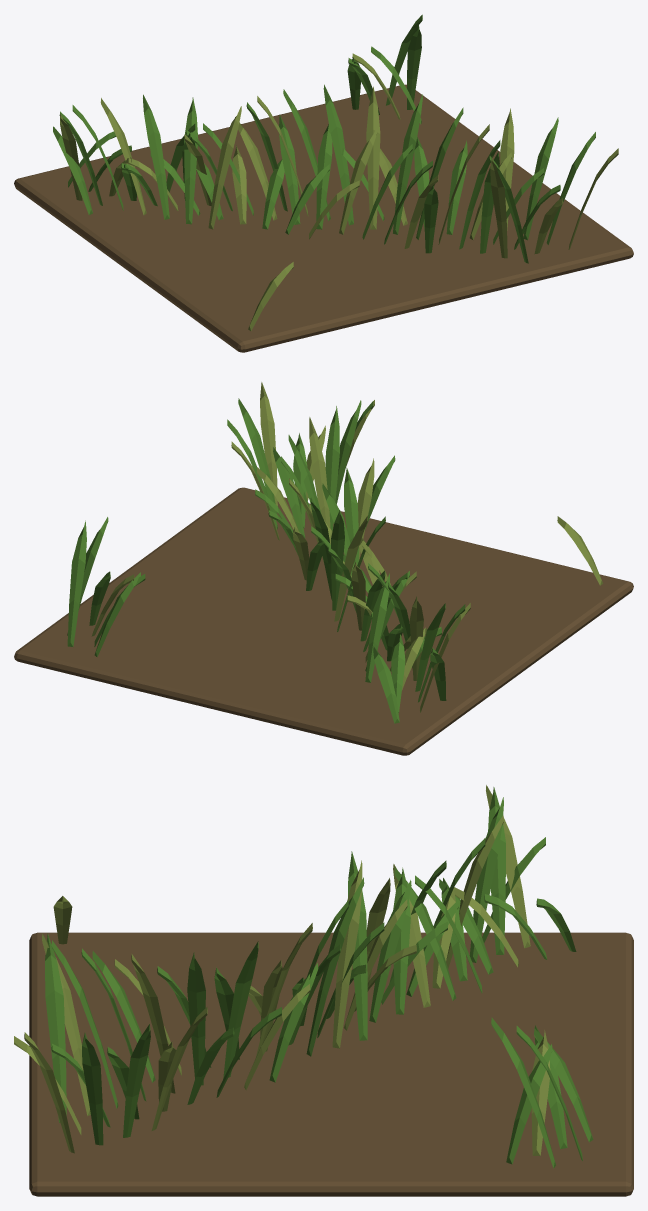
3 views of the same model, one above another, from view 1: azimuth 30°, elevation 25°; view 2: azimuth 150°, elevation 25°; view 3: azimuth 270°, elevation 25° (orthographic). The views are drawn at different scales.
Parts seen in each view (by area): view 1: GRASS_Soil, GRASS_Blade_24, GRASS_Blade_53, GRASS_Blade_29, GRASS_Blade_63, GRASS_Blade_19, GRASS_Blade_58, GRASS_Blade_54, GRASS_Blade_37, GRASS_Blade_8, GRASS_Blade_32, GRASS_Blade_16 (+25 smaller); view 2: GRASS_Soil, GRASS_Blade_23, GRASS_Blade_39, GRASS_Blade_18, GRASS_Blade_44, GRASS_Blade_2, GRASS_Blade_14, GRASS_Blade_13, GRASS_Blade_52, GRASS_Blade_5, GRASS_Blade_49, GRASS_Blade_26 (+12 smaller); view 3: GRASS_Soil, GRASS_Blade_59, GRASS_Blade_9, GRASS_Blade_4, GRASS_Blade_14, GRASS_Blade_34, GRASS_Blade_29, GRASS_Blade_13, GRASS_Blade_8, GRASS_Blade_38, GRASS_Blade_43, GRASS_Blade_22 (+39 smaller).
Part boxes in pixels (box(x1,y1,x2,y2)): GRASS_Soil: box(14, 84, 633, 352); GRASS_Blade_24: box(366, 86, 380, 229); GRASS_Blade_53: box(143, 94, 169, 219); GRASS_Blade_29: box(393, 94, 422, 234); GRASS_Blade_63: box(208, 106, 241, 229); GRASS_Blade_19: box(323, 84, 353, 225); GRASS_Blade_58: box(184, 97, 198, 224); GRASS_Blade_54: box(490, 157, 507, 258); GRASS_Blade_37: box(316, 124, 332, 229); GRASS_Blade_8: box(523, 117, 558, 240); GRASS_Blade_32: box(279, 114, 300, 224); GRASS_Blade_16: box(446, 140, 467, 234); GRASS_Soil: box(14, 487, 633, 755); GRASS_Blade_23: box(67, 520, 86, 646); GRASS_Blade_39: box(309, 417, 330, 544); GRASS_Blade_18: box(260, 382, 277, 505); GRASS_Blade_44: box(325, 406, 339, 530); GRASS_Blade_2: box(365, 573, 389, 682); GRASS_Blade_14: box(331, 510, 344, 610); GRASS_Blade_13: box(238, 398, 277, 514); GRASS_Blade_52: box(344, 467, 358, 565); GRASS_Blade_5: box(373, 646, 399, 723); GRASS_Blade_49: box(335, 400, 361, 504); GRASS_Blade_26: box(273, 447, 305, 537); GRASS_Soil: box(29, 932, 633, 1196); GRASS_Blade_59: box(45, 933, 66, 1122); GRASS_Blade_9: box(332, 860, 362, 1048); GRASS_Blade_4: box(348, 851, 367, 1040); GRASS_Blade_14: box(306, 877, 364, 1056); GRASS_Blade_34: box(187, 952, 205, 1085); GRASS_Blade_29: box(223, 941, 258, 1078); GRASS_Blade_13: box(82, 1032, 103, 1145); GRASS_Blade_8: box(123, 1024, 150, 1137); GRASS_Blade_38: box(488, 787, 505, 954); GRASS_Blade_43: box(469, 797, 503, 962); GRASS_Blade_22: box(369, 880, 411, 1022).
Size of the model in its own units: 0.9165 by 0.29 by 0.9229.
